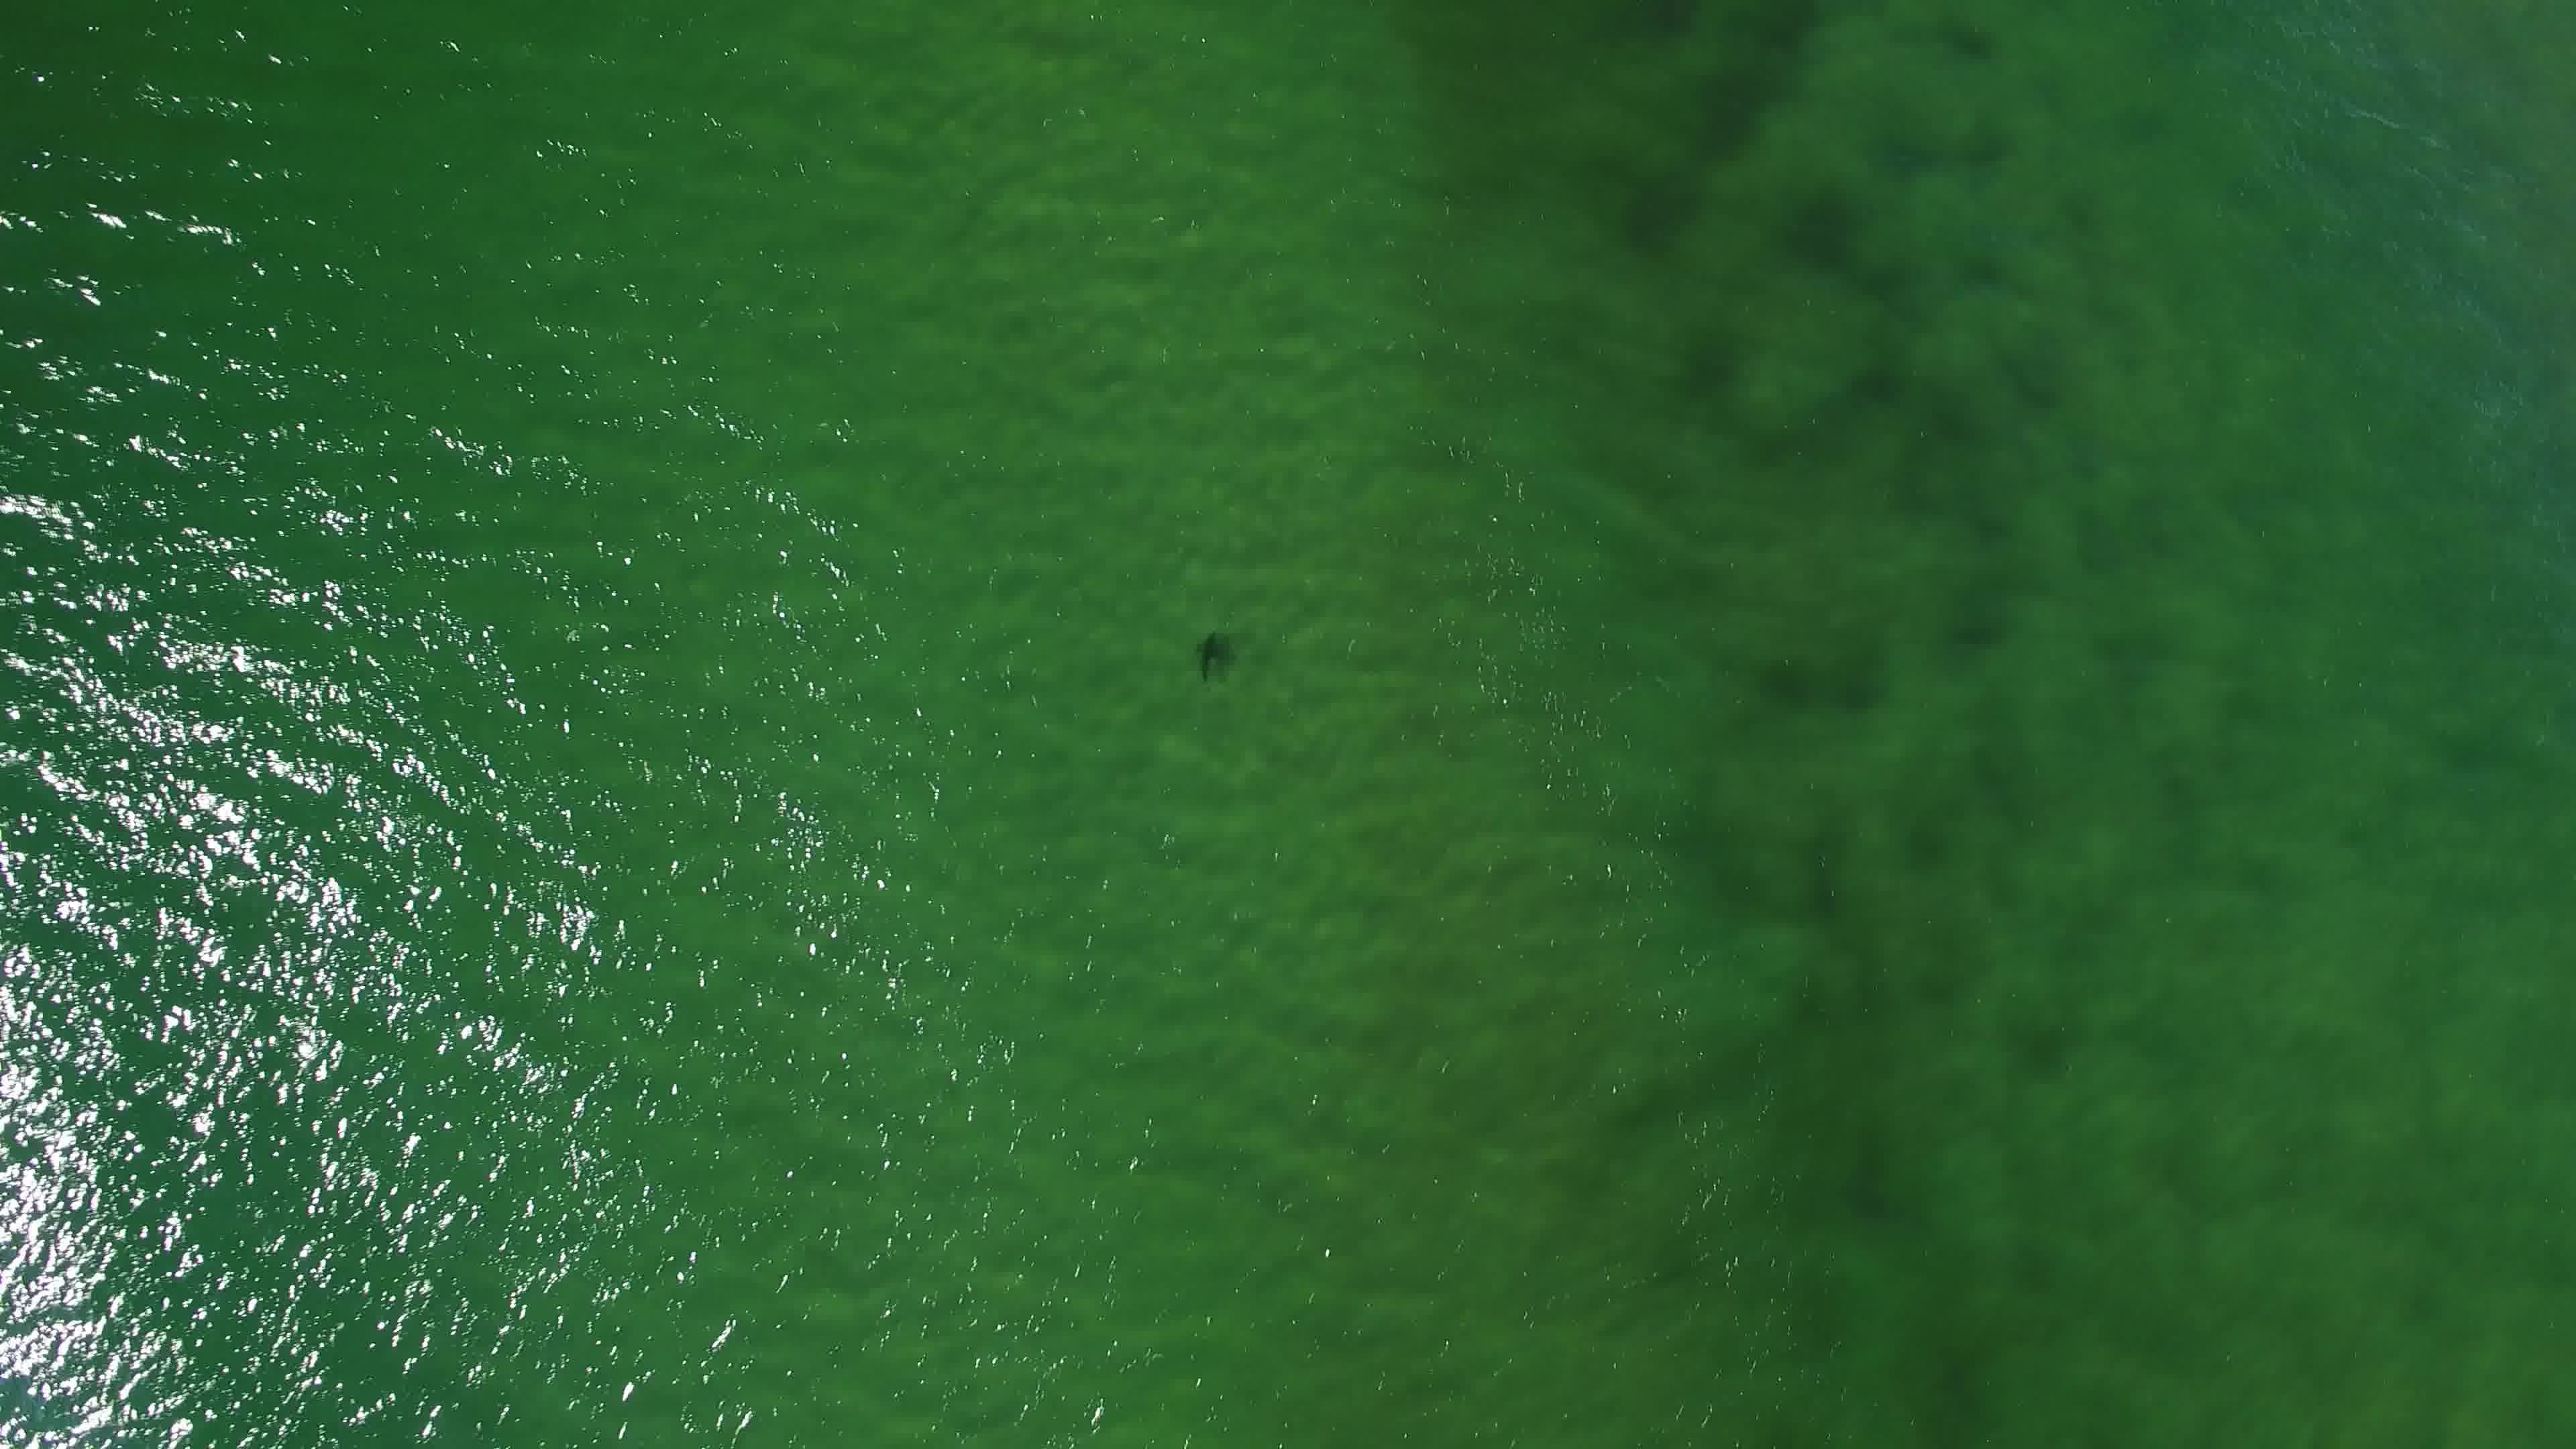shark: (1191, 625, 1231, 686)
